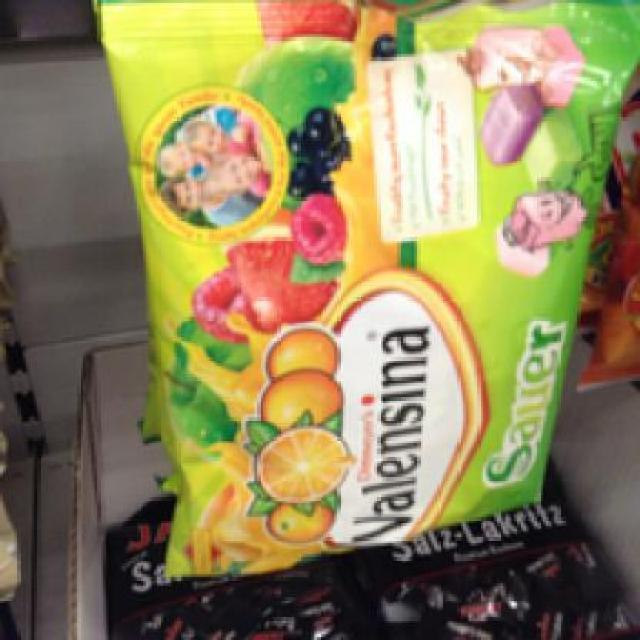Candy: (108, 6, 614, 554)
